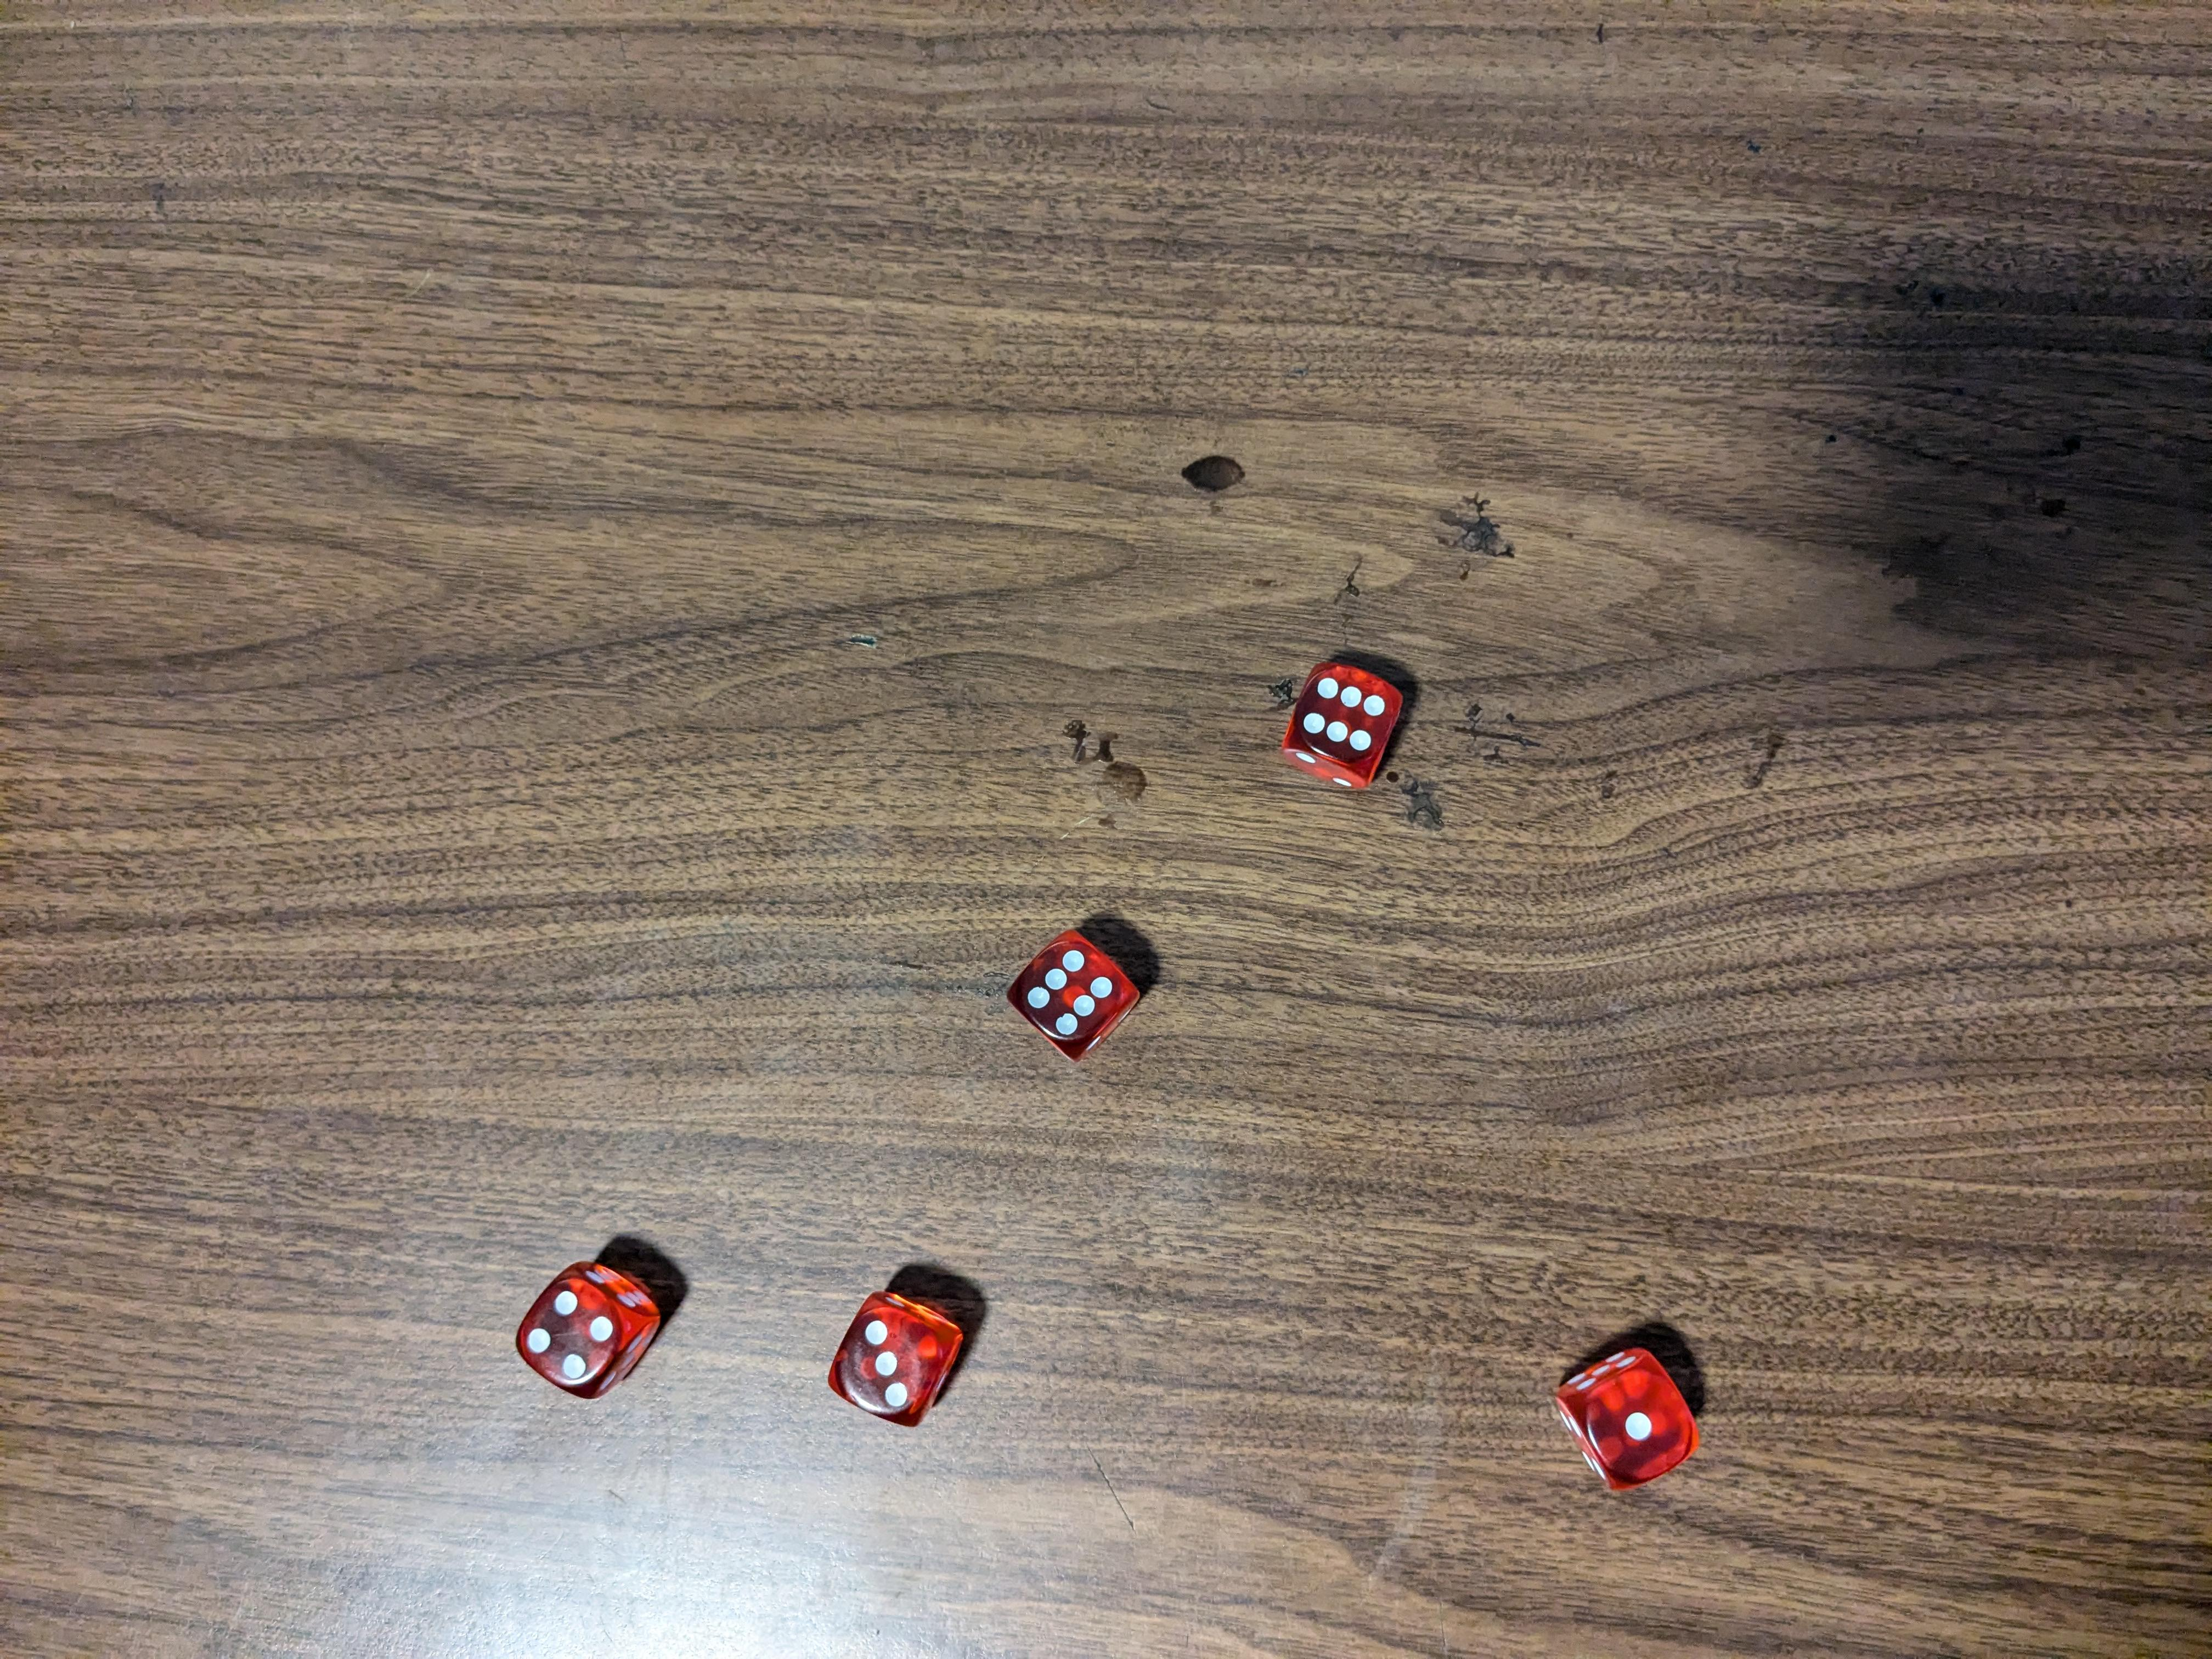four: (505, 1260, 664, 1398)
one: (1554, 1347, 1709, 1502)
six: (1001, 929, 1141, 1065), (1282, 653, 1406, 791)
three: (827, 1297, 963, 1429)
